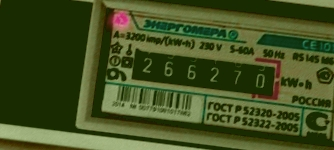0: (252, 70, 266, 89)
2: (138, 54, 154, 73), (207, 64, 220, 83)
6: (161, 58, 175, 77), (184, 62, 198, 81)
7: (230, 67, 243, 86)
screen: (119, 37, 287, 106)
